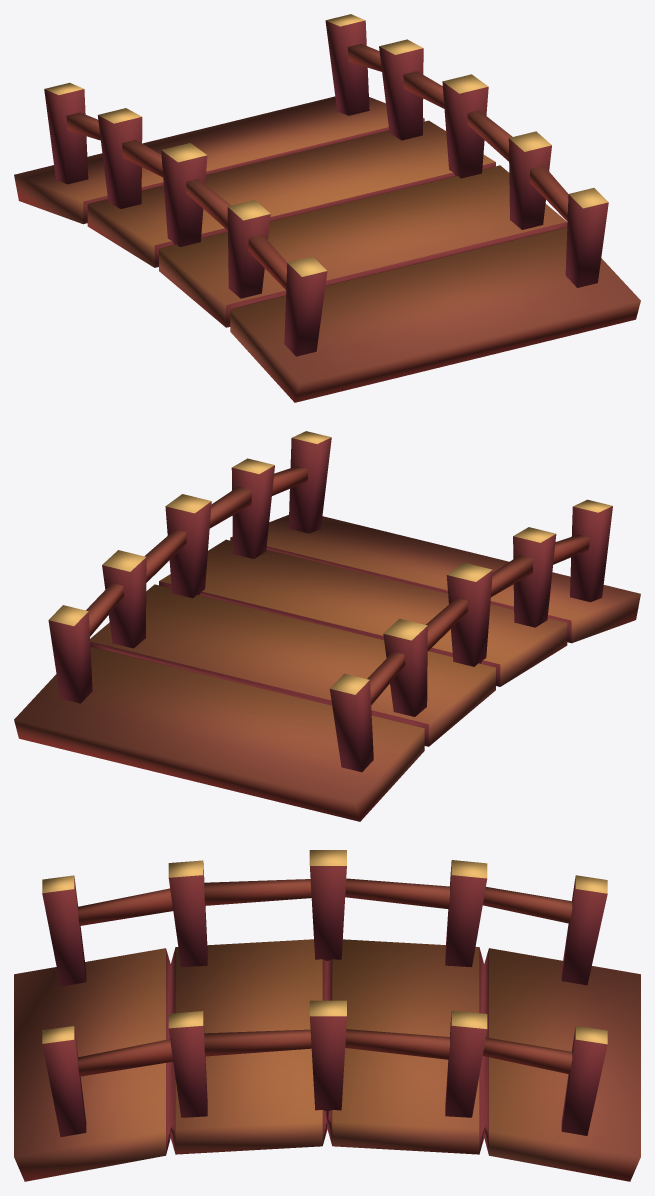
Rendered from bridge.fbx.
The picture shows the model from 3 angles, top to bottom: view 1: azimuth 30°, elevation 25°; view 2: azimuth 150°, elevation 25°; view 3: azimuth 270°, elevation 25°; orthographic projection. The views are drawn at different scales.
Parts seen in each view (by area): view 1: bridge; view 2: bridge; view 3: bridge.
Part boxes in pixels (x1=…): bridge: x1=14, y1=14, x2=640, y2=402; bridge: x1=14, y1=431, x2=640, y2=821; bridge: x1=14, y1=850, x2=640, y2=1181.
Size of the model in its own units: 90.93 by 36.19 by 132.
